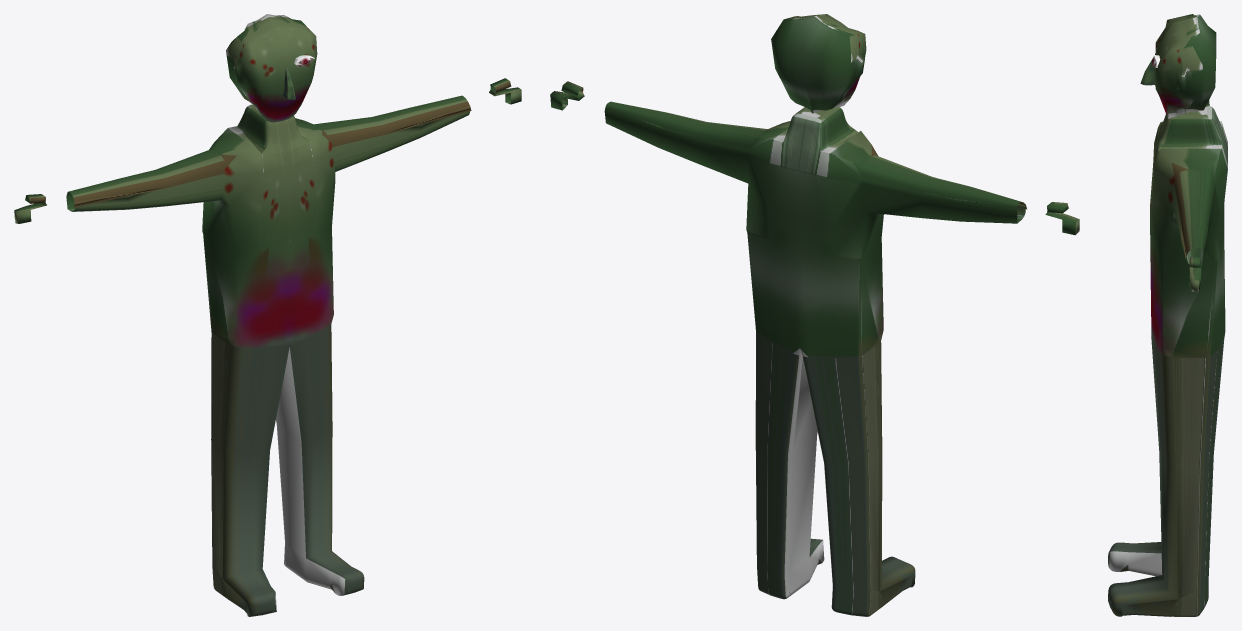
File: Xoors_painted.fbx
3 renders of one model, left to right at view 1: azimuth 30°, elevation 25°; view 2: azimuth 150°, elevation 25°; view 3: azimuth 270°, elevation 25°, orthographic. The views are drawn at different scales.
Visible parts, largest first — view 1: Cube.001; view 2: Cube.001; view 3: Cube.001, Cube.
Part boxes in pixels (x1,y1,x2,y2): Cube.001: [14, 14, 521, 616]; Cube.001: [550, 14, 1079, 616]; Cube.001: [1108, 14, 1227, 616]; Cube: [1140, 57, 1154, 85].
Size of the model in its own units: 834 by 892 by 168.
3 materials, 3 textured.
